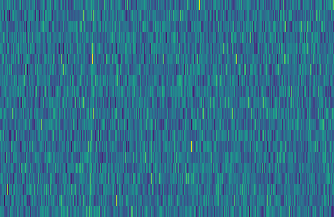signal: (82, 0, 95, 217)
